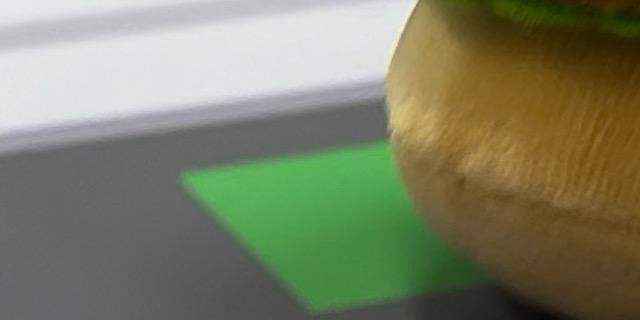burger: (335, 0, 640, 320)
